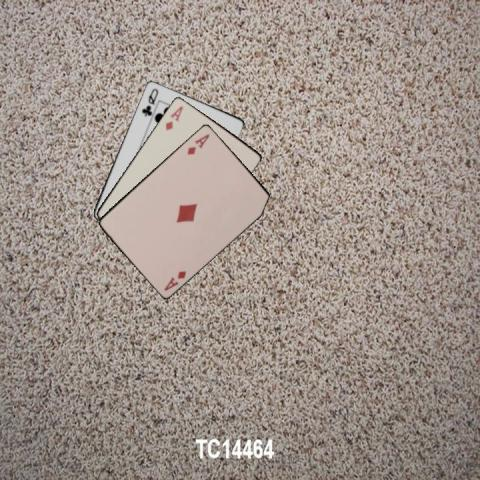Ad: (184, 131, 211, 156), (161, 267, 188, 292), (162, 103, 185, 132)
Qc: (139, 85, 160, 117)
